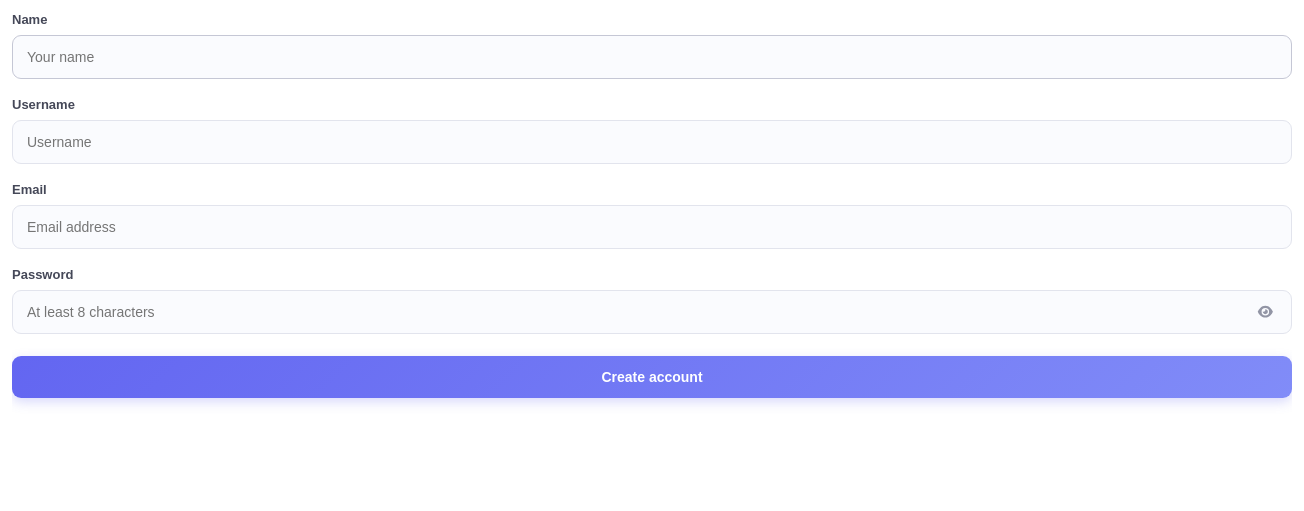
Test case: RegisterForm › requires all registration fields and an eight character password
Click the button with test id "register-submit" at (652, 377), box [12,356,1292,398]
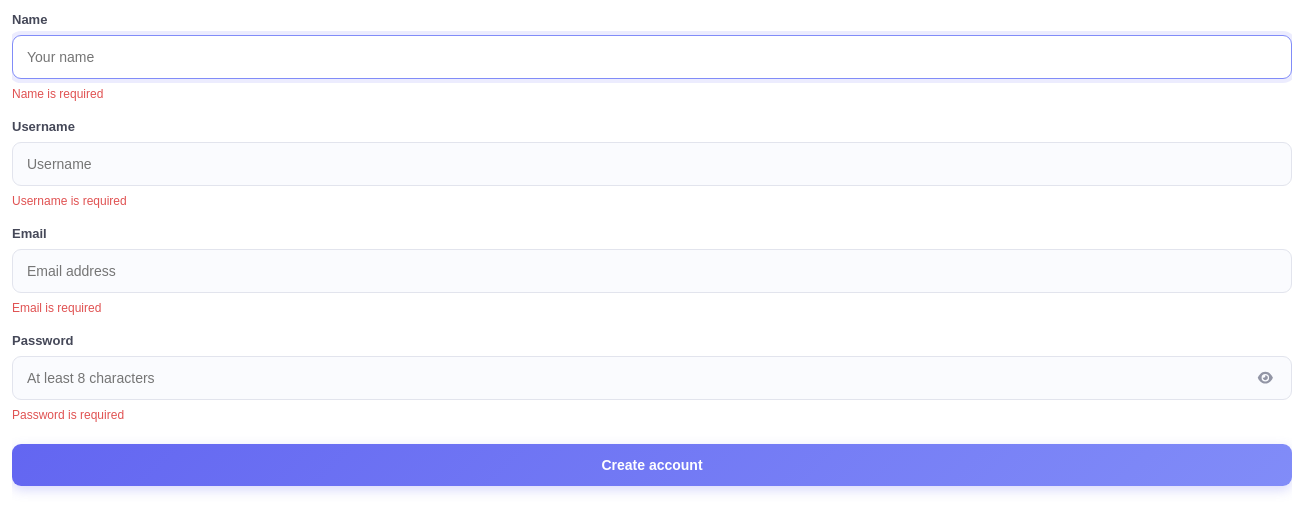
Result: the text "Name is required" is shown at [12,87,103,101]
Result: the text "Username is required" is shown at [12,194,127,208]
Result: the text "Email is required" is shown at [12,301,101,315]
Type "Alex" into the field with test id "register-name-input" at (652, 57), box [12,35,1292,79]
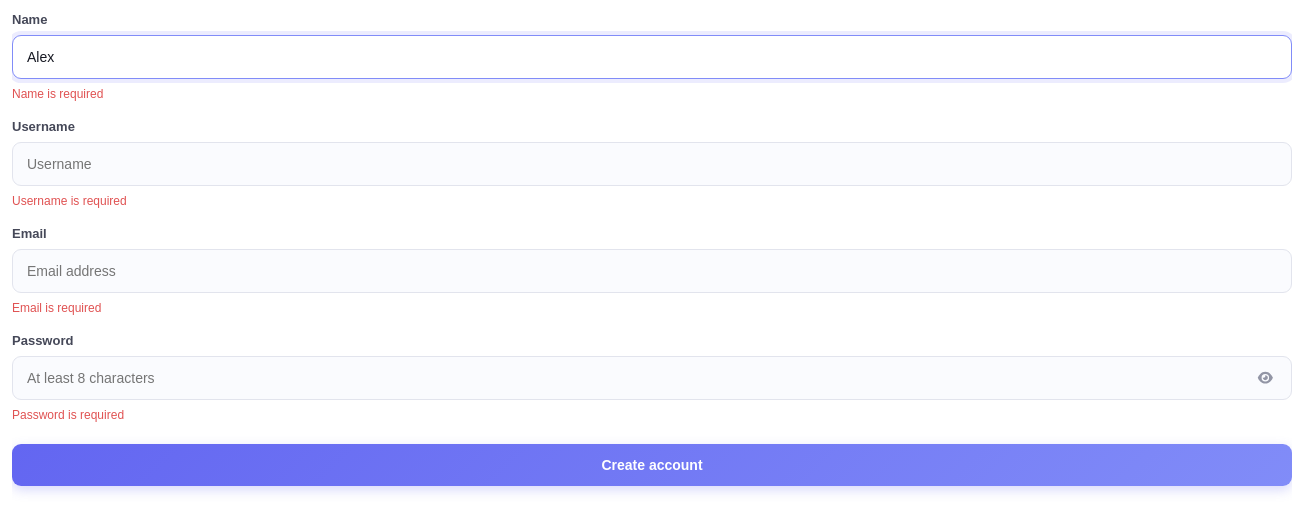
Type "alex" into the field with test id "register-username-input" at (652, 164), box [12,142,1292,186]
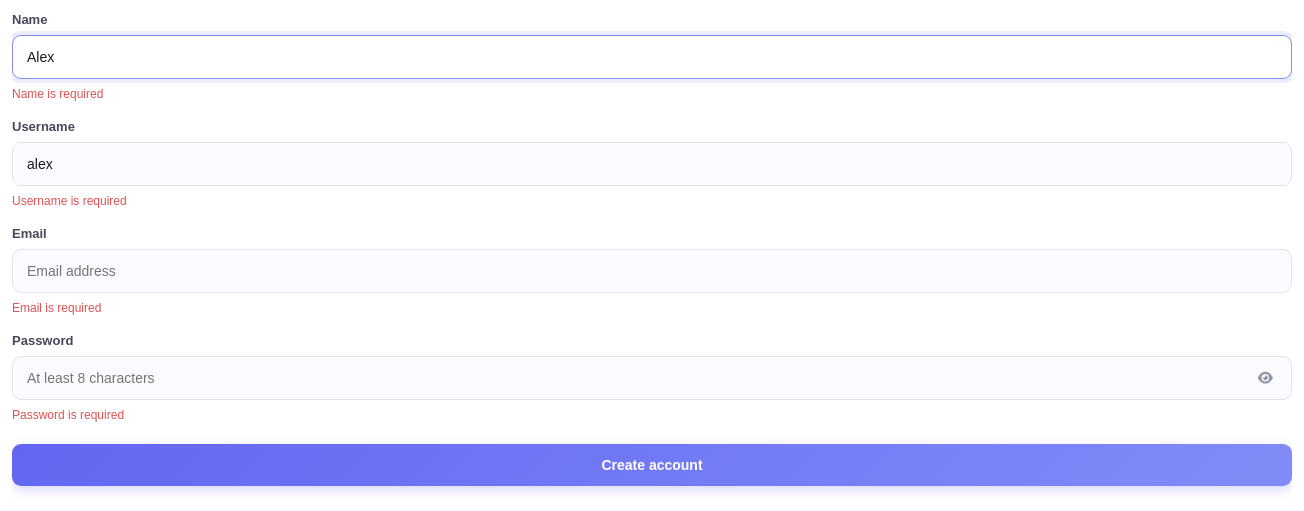
Type "alex@example.com" into the field with test id "register-email-input" at (652, 271), box [12,249,1292,293]
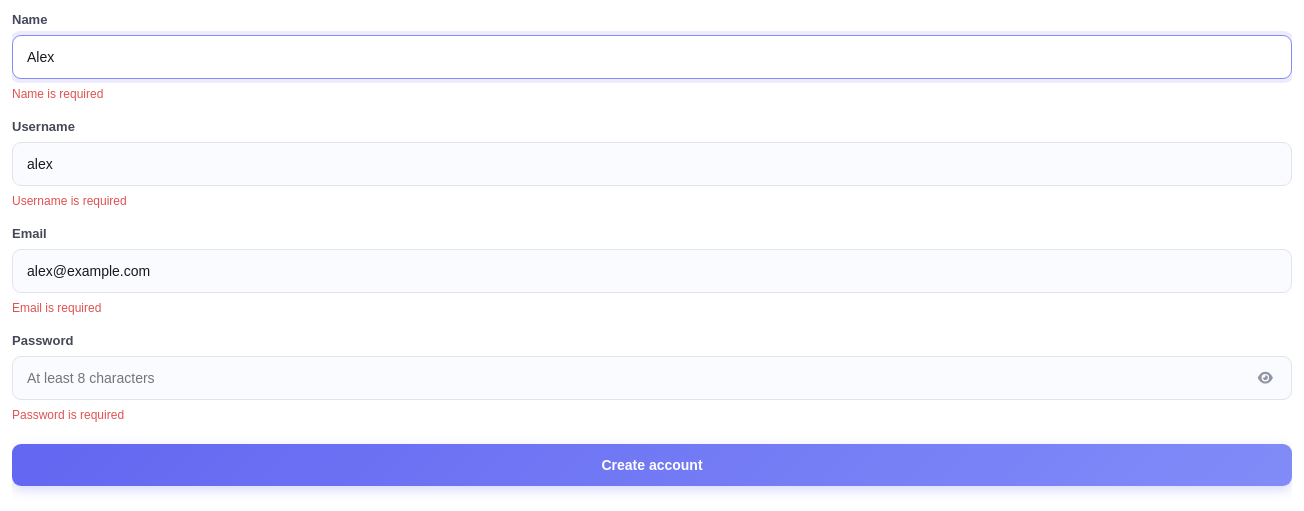
Type "1234567" into the password field with test id "register-password-input" at (652, 378), box [12,356,1292,400]
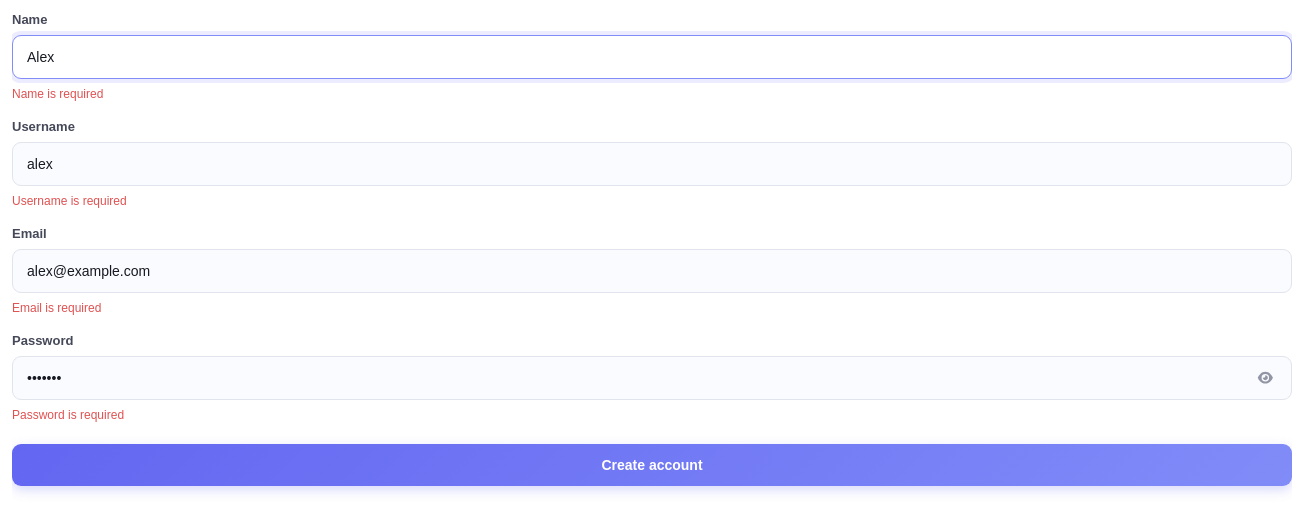
Click the button with test id "register-submit" at (652, 465), box [12,444,1292,486]
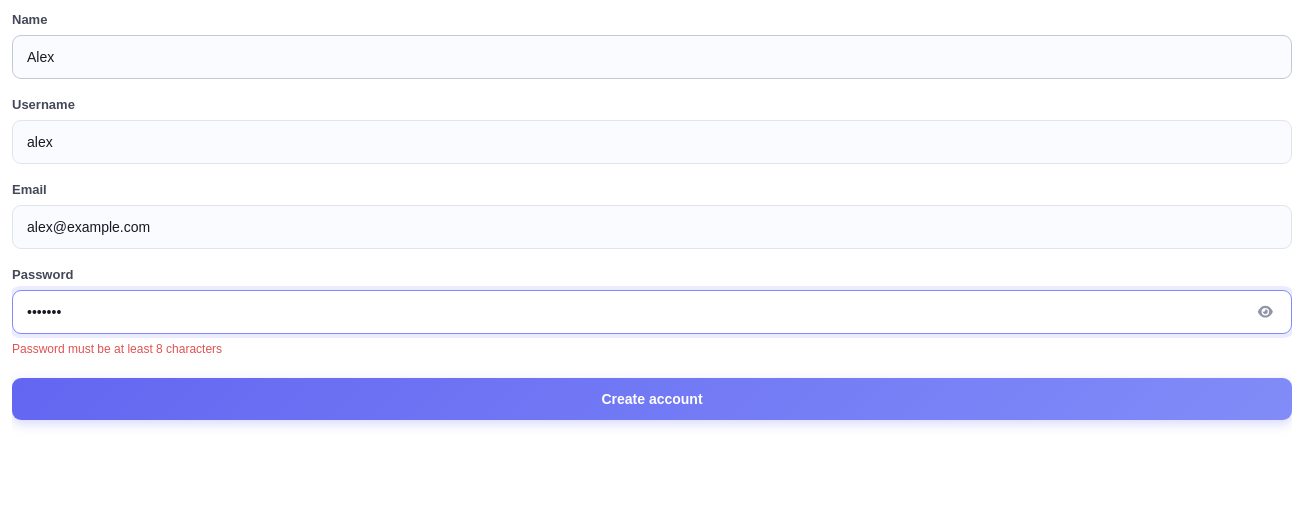
Result: the text "Password must be at least 8 characters" is shown at [12,342,222,356]
